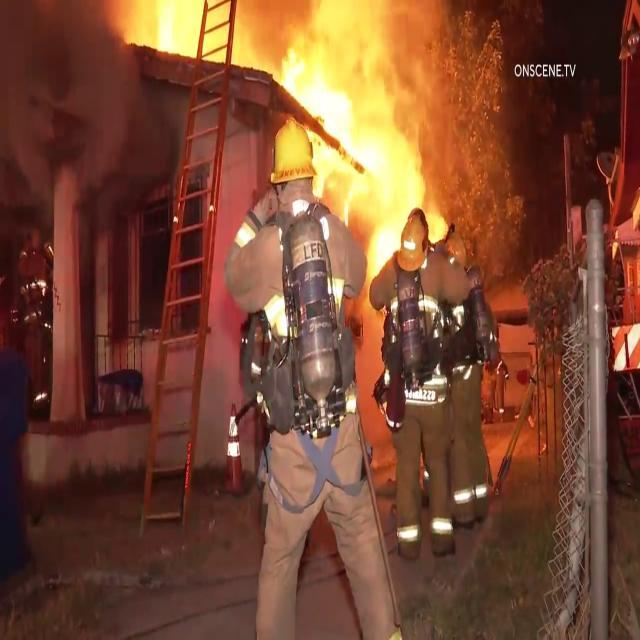Fire: (281, 50, 422, 218)
Smoke: (0, 0, 146, 202)
